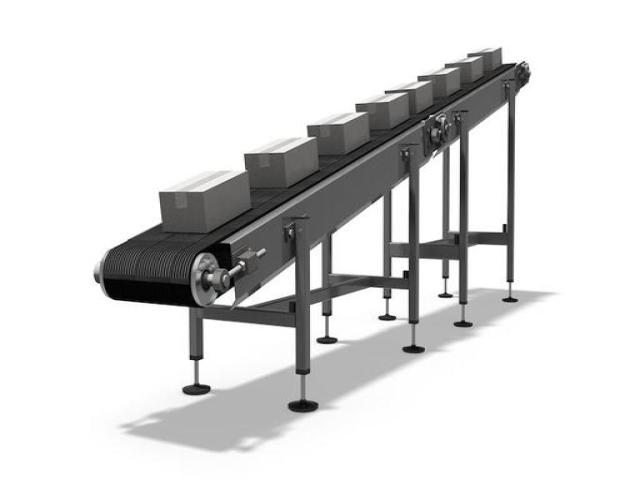conveyor: (91, 45, 532, 413)
